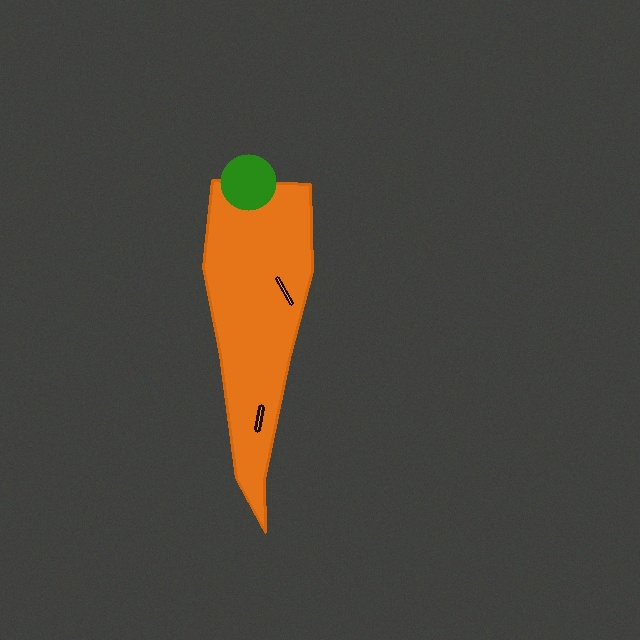Damaged_Carrot: (195, 172, 320, 540)
